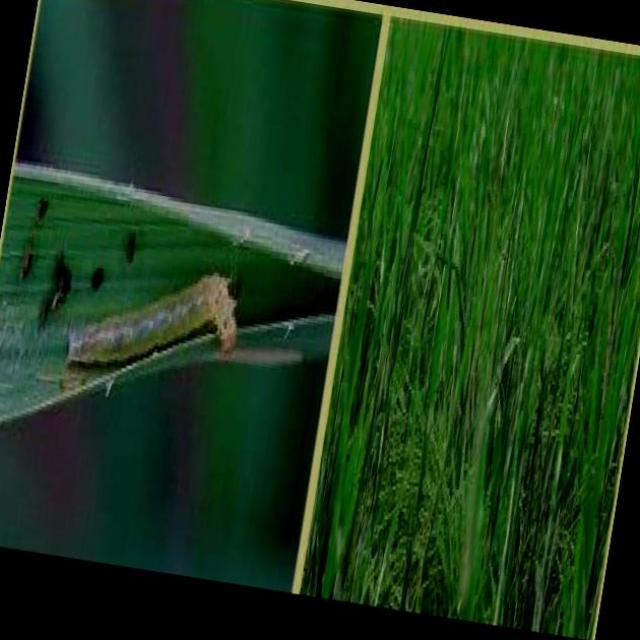leaf folder: (67, 273, 237, 368)
